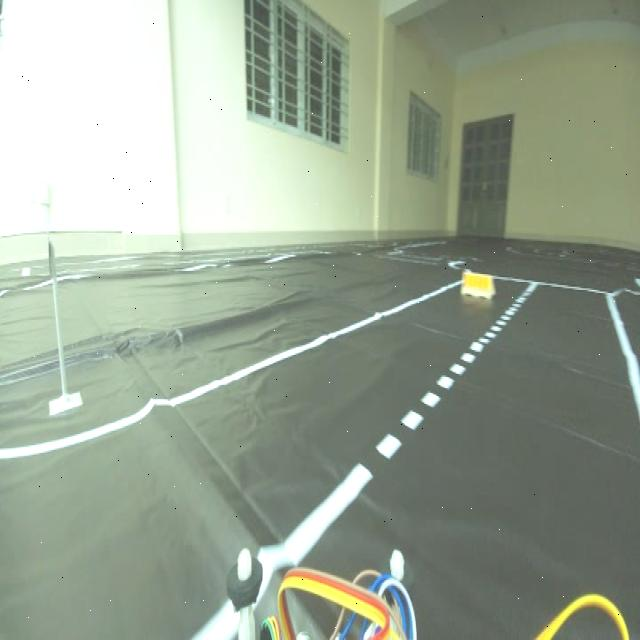roadblock: (456, 264, 501, 302)
